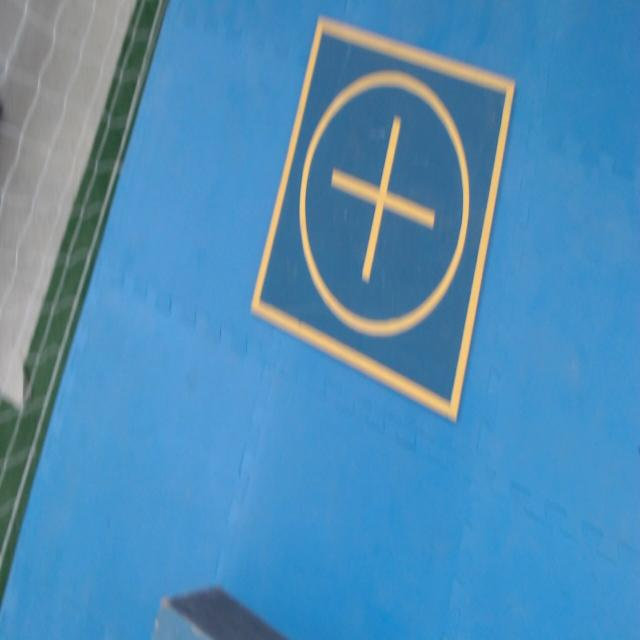base_pouso: (249, 15, 517, 414)
